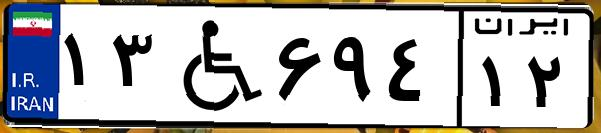1: (57, 26, 110, 100), (475, 38, 525, 113)
2: (525, 38, 570, 115)
3: (110, 28, 158, 98)
4: (385, 28, 445, 110)
6: (270, 28, 330, 110)
9: (330, 28, 385, 110)
ژ (معلولین و جانبازان): (158, 12, 270, 120)
